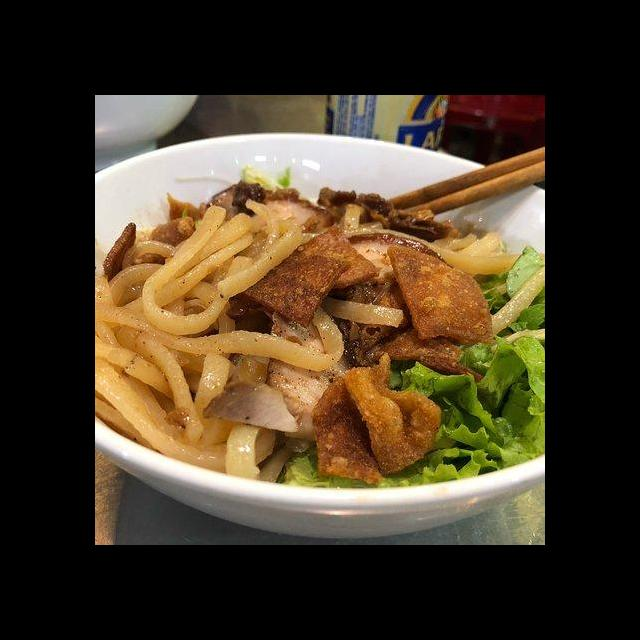banh da: (308, 349, 444, 486), (223, 223, 382, 323), (381, 242, 496, 347), (238, 246, 354, 329), (359, 321, 486, 385), (118, 213, 198, 275), (101, 220, 139, 284)
mi: (96, 197, 308, 485), (416, 225, 545, 280)
mi quang: (95, 139, 545, 527)
thit heo: (267, 304, 353, 456), (200, 179, 337, 247), (328, 228, 456, 291), (199, 375, 302, 437)
